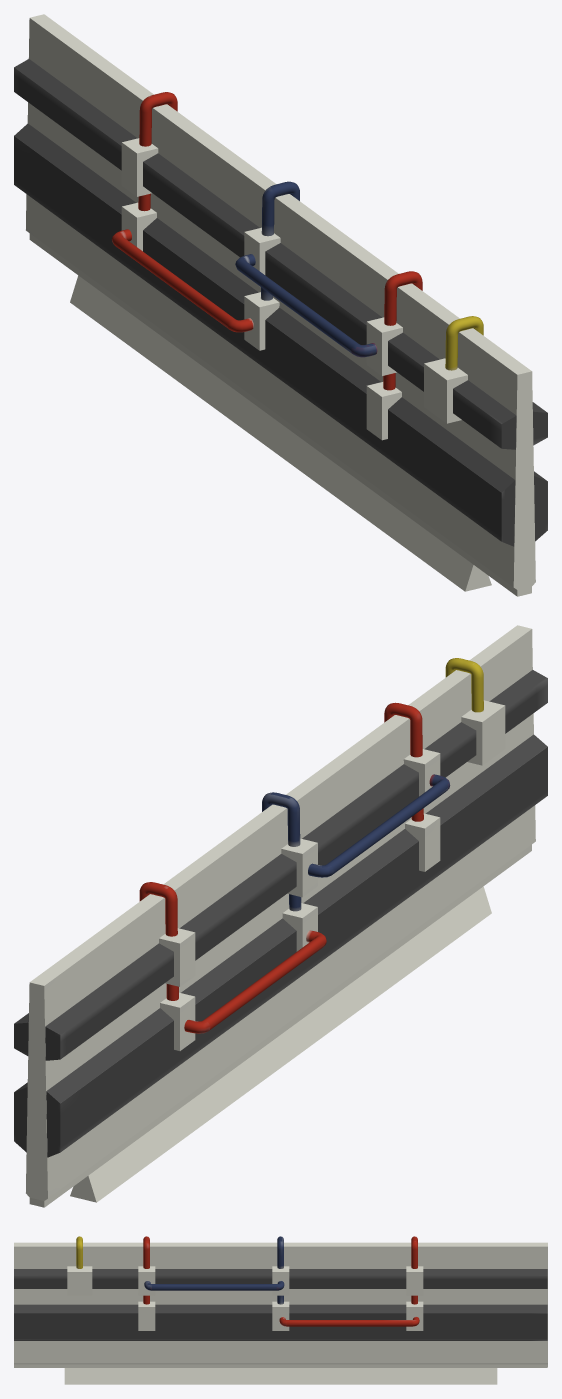
Rendered from Valla3.fbx.
3 views of the same model, one above another, from view 1: azimuth 30°, elevation 25°; view 2: azimuth 150°, elevation 25°; view 3: azimuth 270°, elevation 25° (orthographic). The views are drawn at different scales.
Visible parts, largest first — view 1: Cube; view 2: Cube; view 3: Cube.
Boxes of the visible parts, box(x1,y1,x2,y2) form: Cube: box(14, 14, 547, 596); Cube: box(14, 625, 547, 1207); Cube: box(14, 1236, 547, 1384).
Bounding box in the file's own units: 90.86 × 234 × 797.
1 material, 1 textured.
